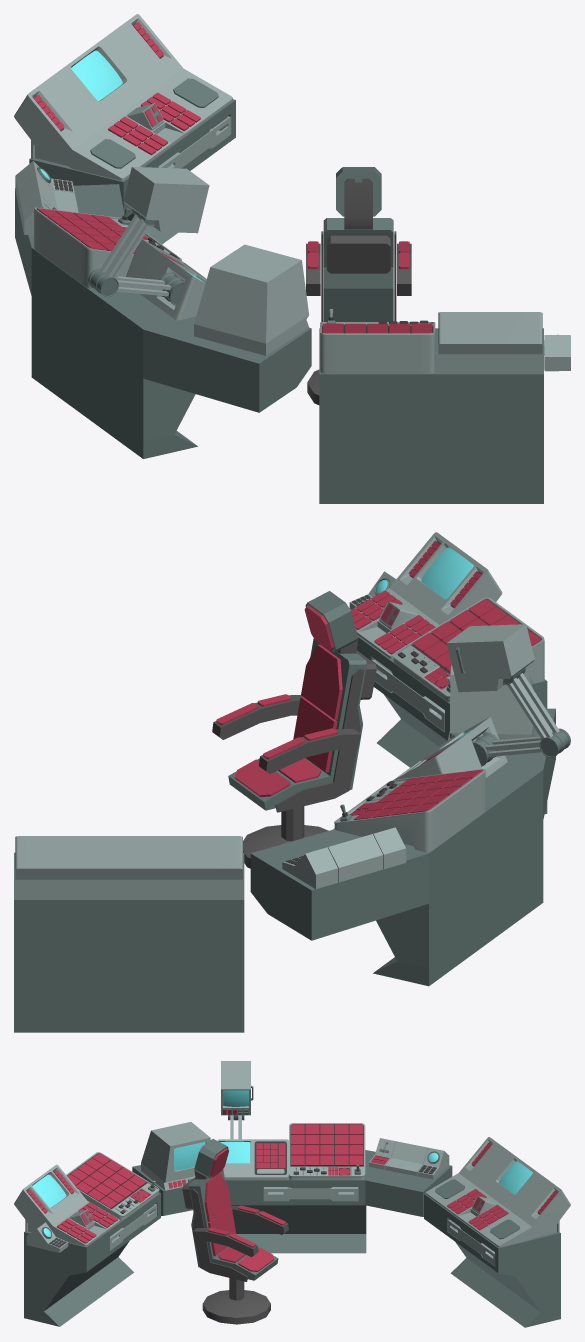
Rendered from ControlTerm2.fbx.
The picture shows the model from 3 angles, top to bottom: view 1: azimuth 30°, elevation 25°; view 2: azimuth 150°, elevation 25°; view 3: azimuth 270°, elevation 25°; orthographic projection. The views are drawn at different scales.
Visible parts, largest first — view 1: polySurface121 (×3), pCube76 (×2), pCube64, polySurface119 (×2), pasted__polySurface16, polySurface130, pCube72 (×2), polySurface125, pasted__polySurface17, pCube62, pCube101, polySurface171 (+9 smaller); view 2: polySurface121 (×3), pCube76 (×2), polySurface119 (×2), pCube72 (×2), polySurface130, pCube62, pCube64, pasted__polySurface10, pasted__polySurface16, polySurface125, pasted__polySurface2, pasted__polySurface4 (+14 smaller); view 3: polySurface121 (×3), pCube76 (×2), pCube72 (×2), polySurface119 (×2), pCube64, polySurface129 (×3), pCube62, pCube101 (×2), pasted__pCylinder1, polySurface125, pasted__polySurface10, polySurface146 (×2) (+14 smaller).
Boxes of the visible parts, x1,y1,x2,y2 form: polySurface121 (×3): (15,99,543,503); pCube76 (×2): (14,14,542,373); pCube64: (194,244,308,355); polySurface119 (×2): (34,207,435,373); pasted__polySurface16: (323,218,393,321); polySurface130: (123,166,209,233); pCube72 (×2): (36,208,432,333); polySurface125: (126,239,206,320); pasted__polySurface17: (327,235,390,273); pCube62: (15,161,78,234); pCube101: (108,92,200,154); polySurface171: (90,78,218,168); polySurface121 (×3): (14,635,555,1032); pCube76 (×2): (15,532,502,898); polySurface119 (×2): (334,597,544,851); pCube72 (×2): (354,598,541,819); polySurface130: (446,624,534,692); pCube62: (282,827,406,889); pCube64: (450,664,533,739); pasted__polySurface10: (212,695,361,773); pasted__polySurface16: (228,638,366,810); polySurface125: (394,716,507,779); pasted__polySurface2: (275,669,364,812); pasted__polySurface4: (301,644,342,719); polySurface121 (×3): (24,1150,560,1327); pCube76 (×2): (14,1137,570,1247); pCube72 (×2): (67,1124,363,1208); polySurface119 (×2): (66,1123,365,1220); pCube64: (141,1122,210,1190); polySurface129 (×3): (110,1187,495,1266); pCube62: (369,1138,449,1179); pCube101 (×2): (57,1189,508,1243); pasted__pCylinder1: (202,1290,270,1324); polySurface125: (217,1139,288,1180); pasted__polySurface10: (192,1206,288,1256); polySurface146 (×2): (32,1161,532,1207).
Bounding box in the file's own units: 18.81 × 14.18 × 39.95.
